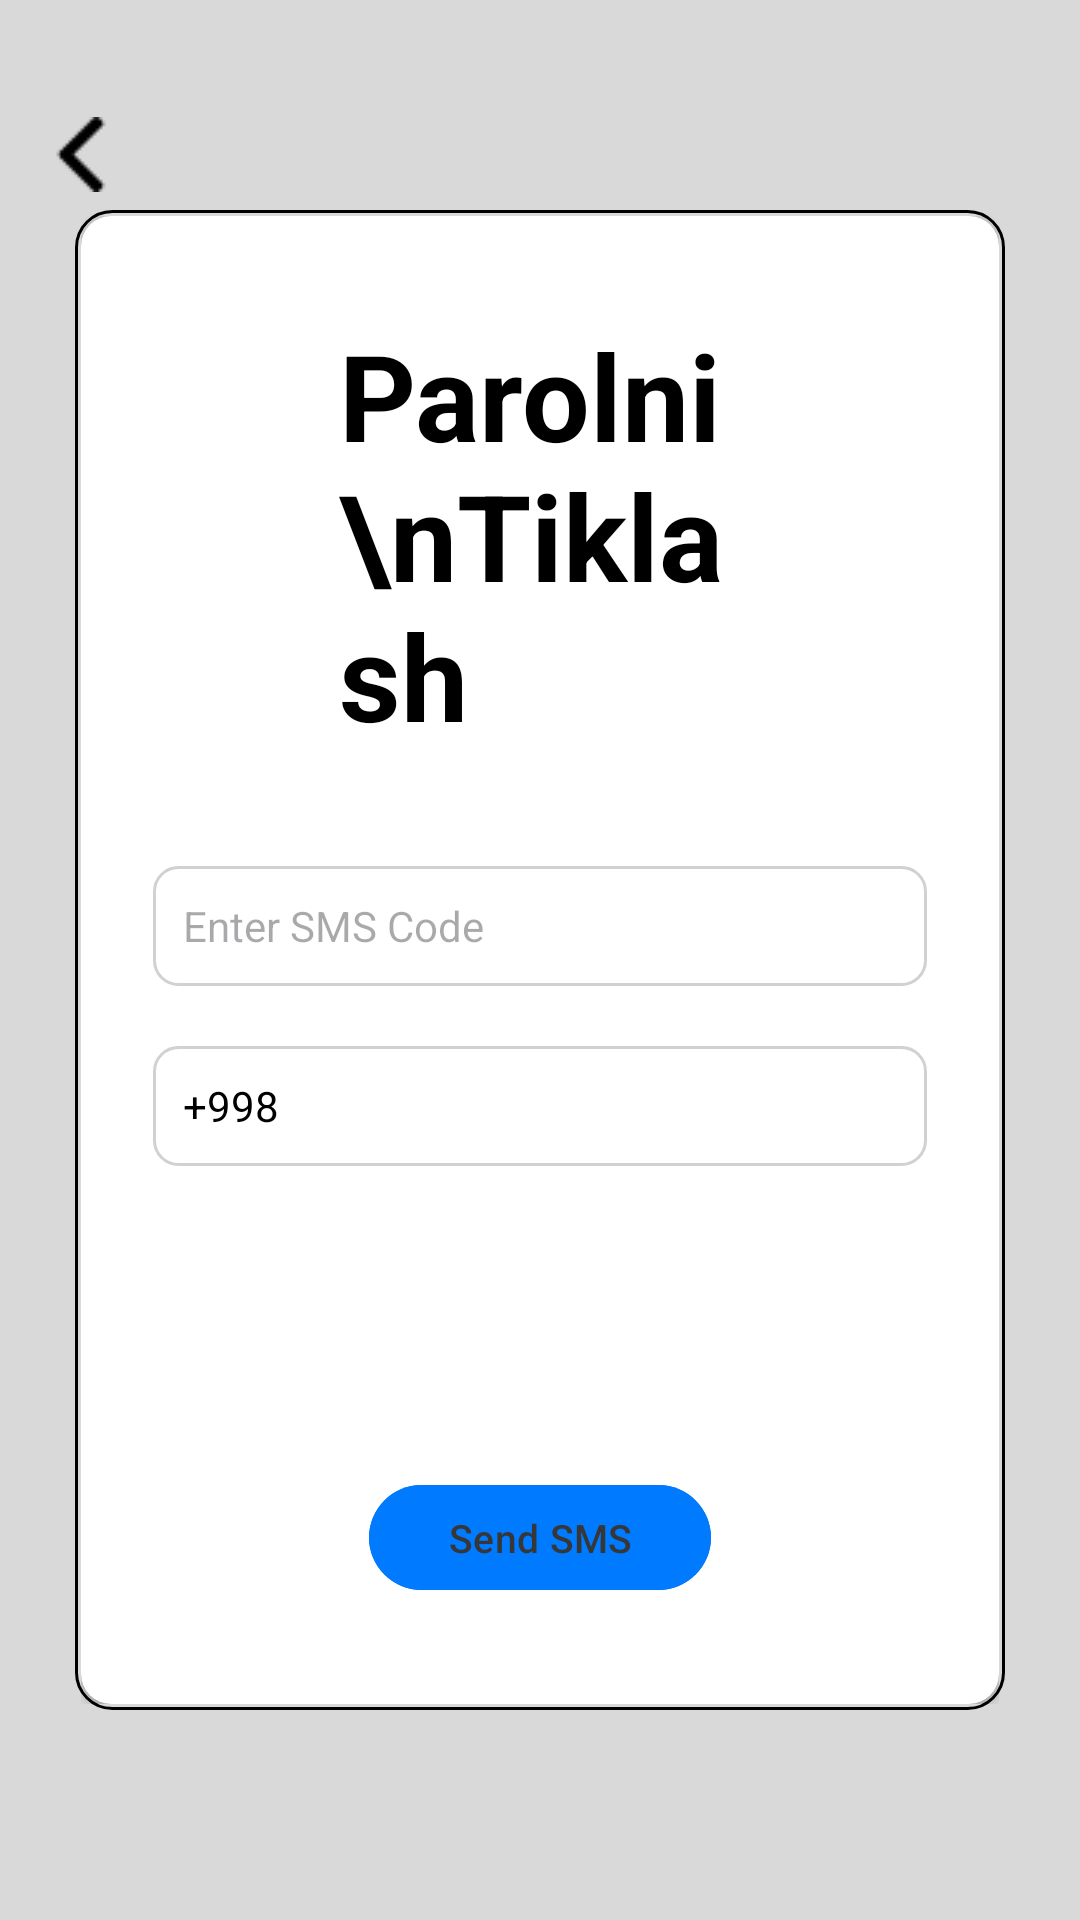

Named icons in this screenshot (1080px x 1920px) and their centers, [x,y]:
back: [81,154]
